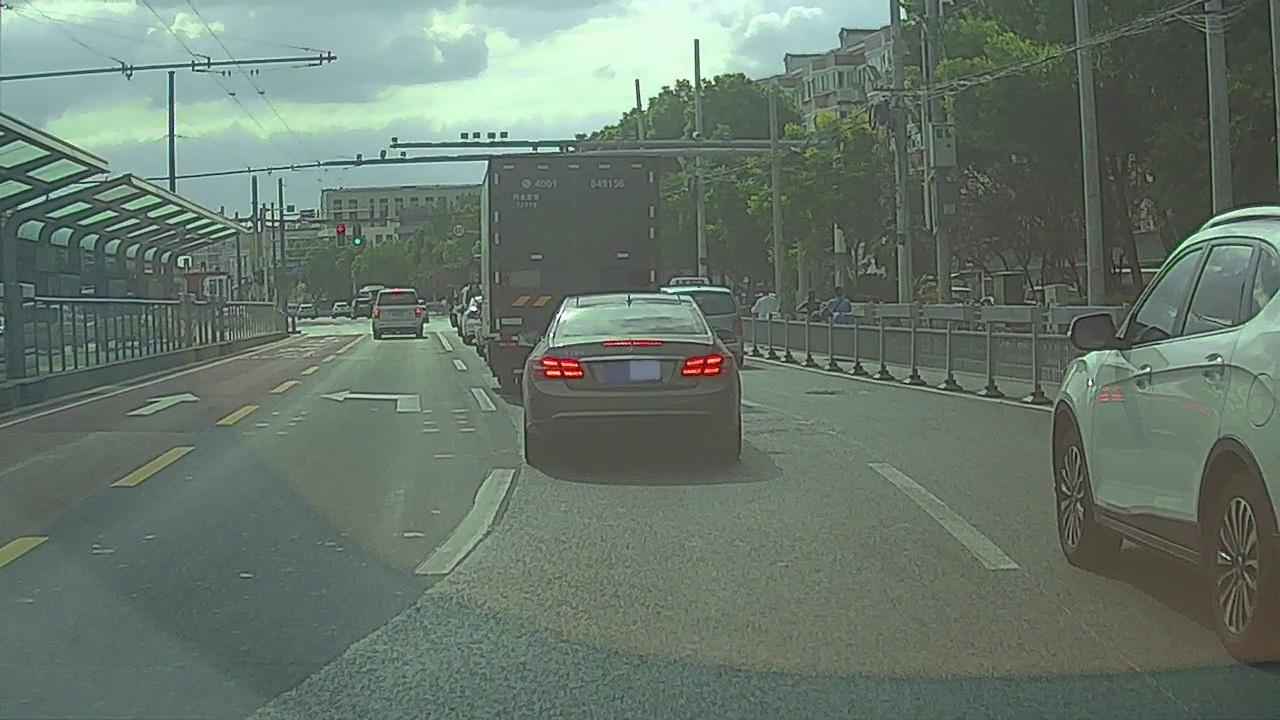traffic_light: (336, 225, 345, 247), (353, 225, 362, 246)
